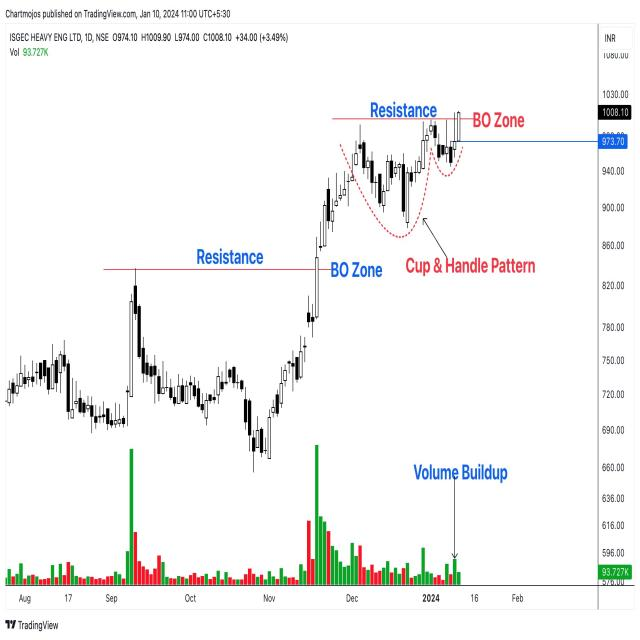Cup-and-handle: (349, 121, 470, 218)
